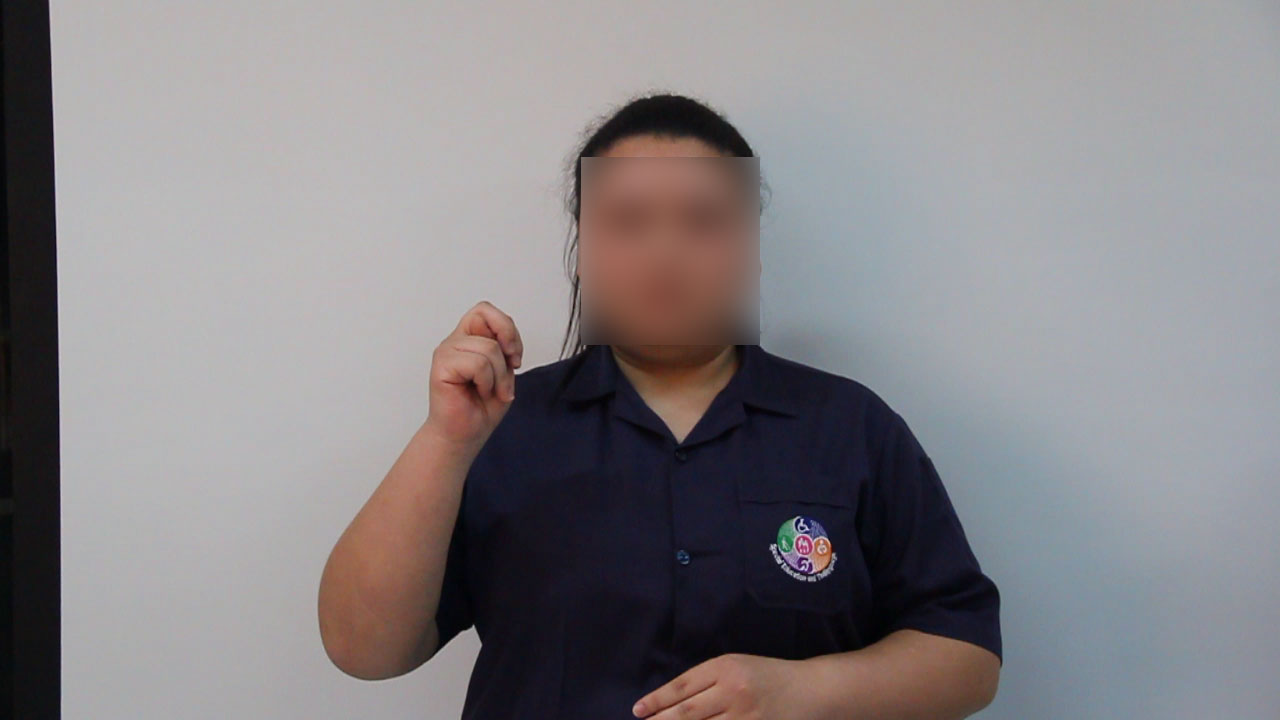nor: (408, 283, 543, 443)
